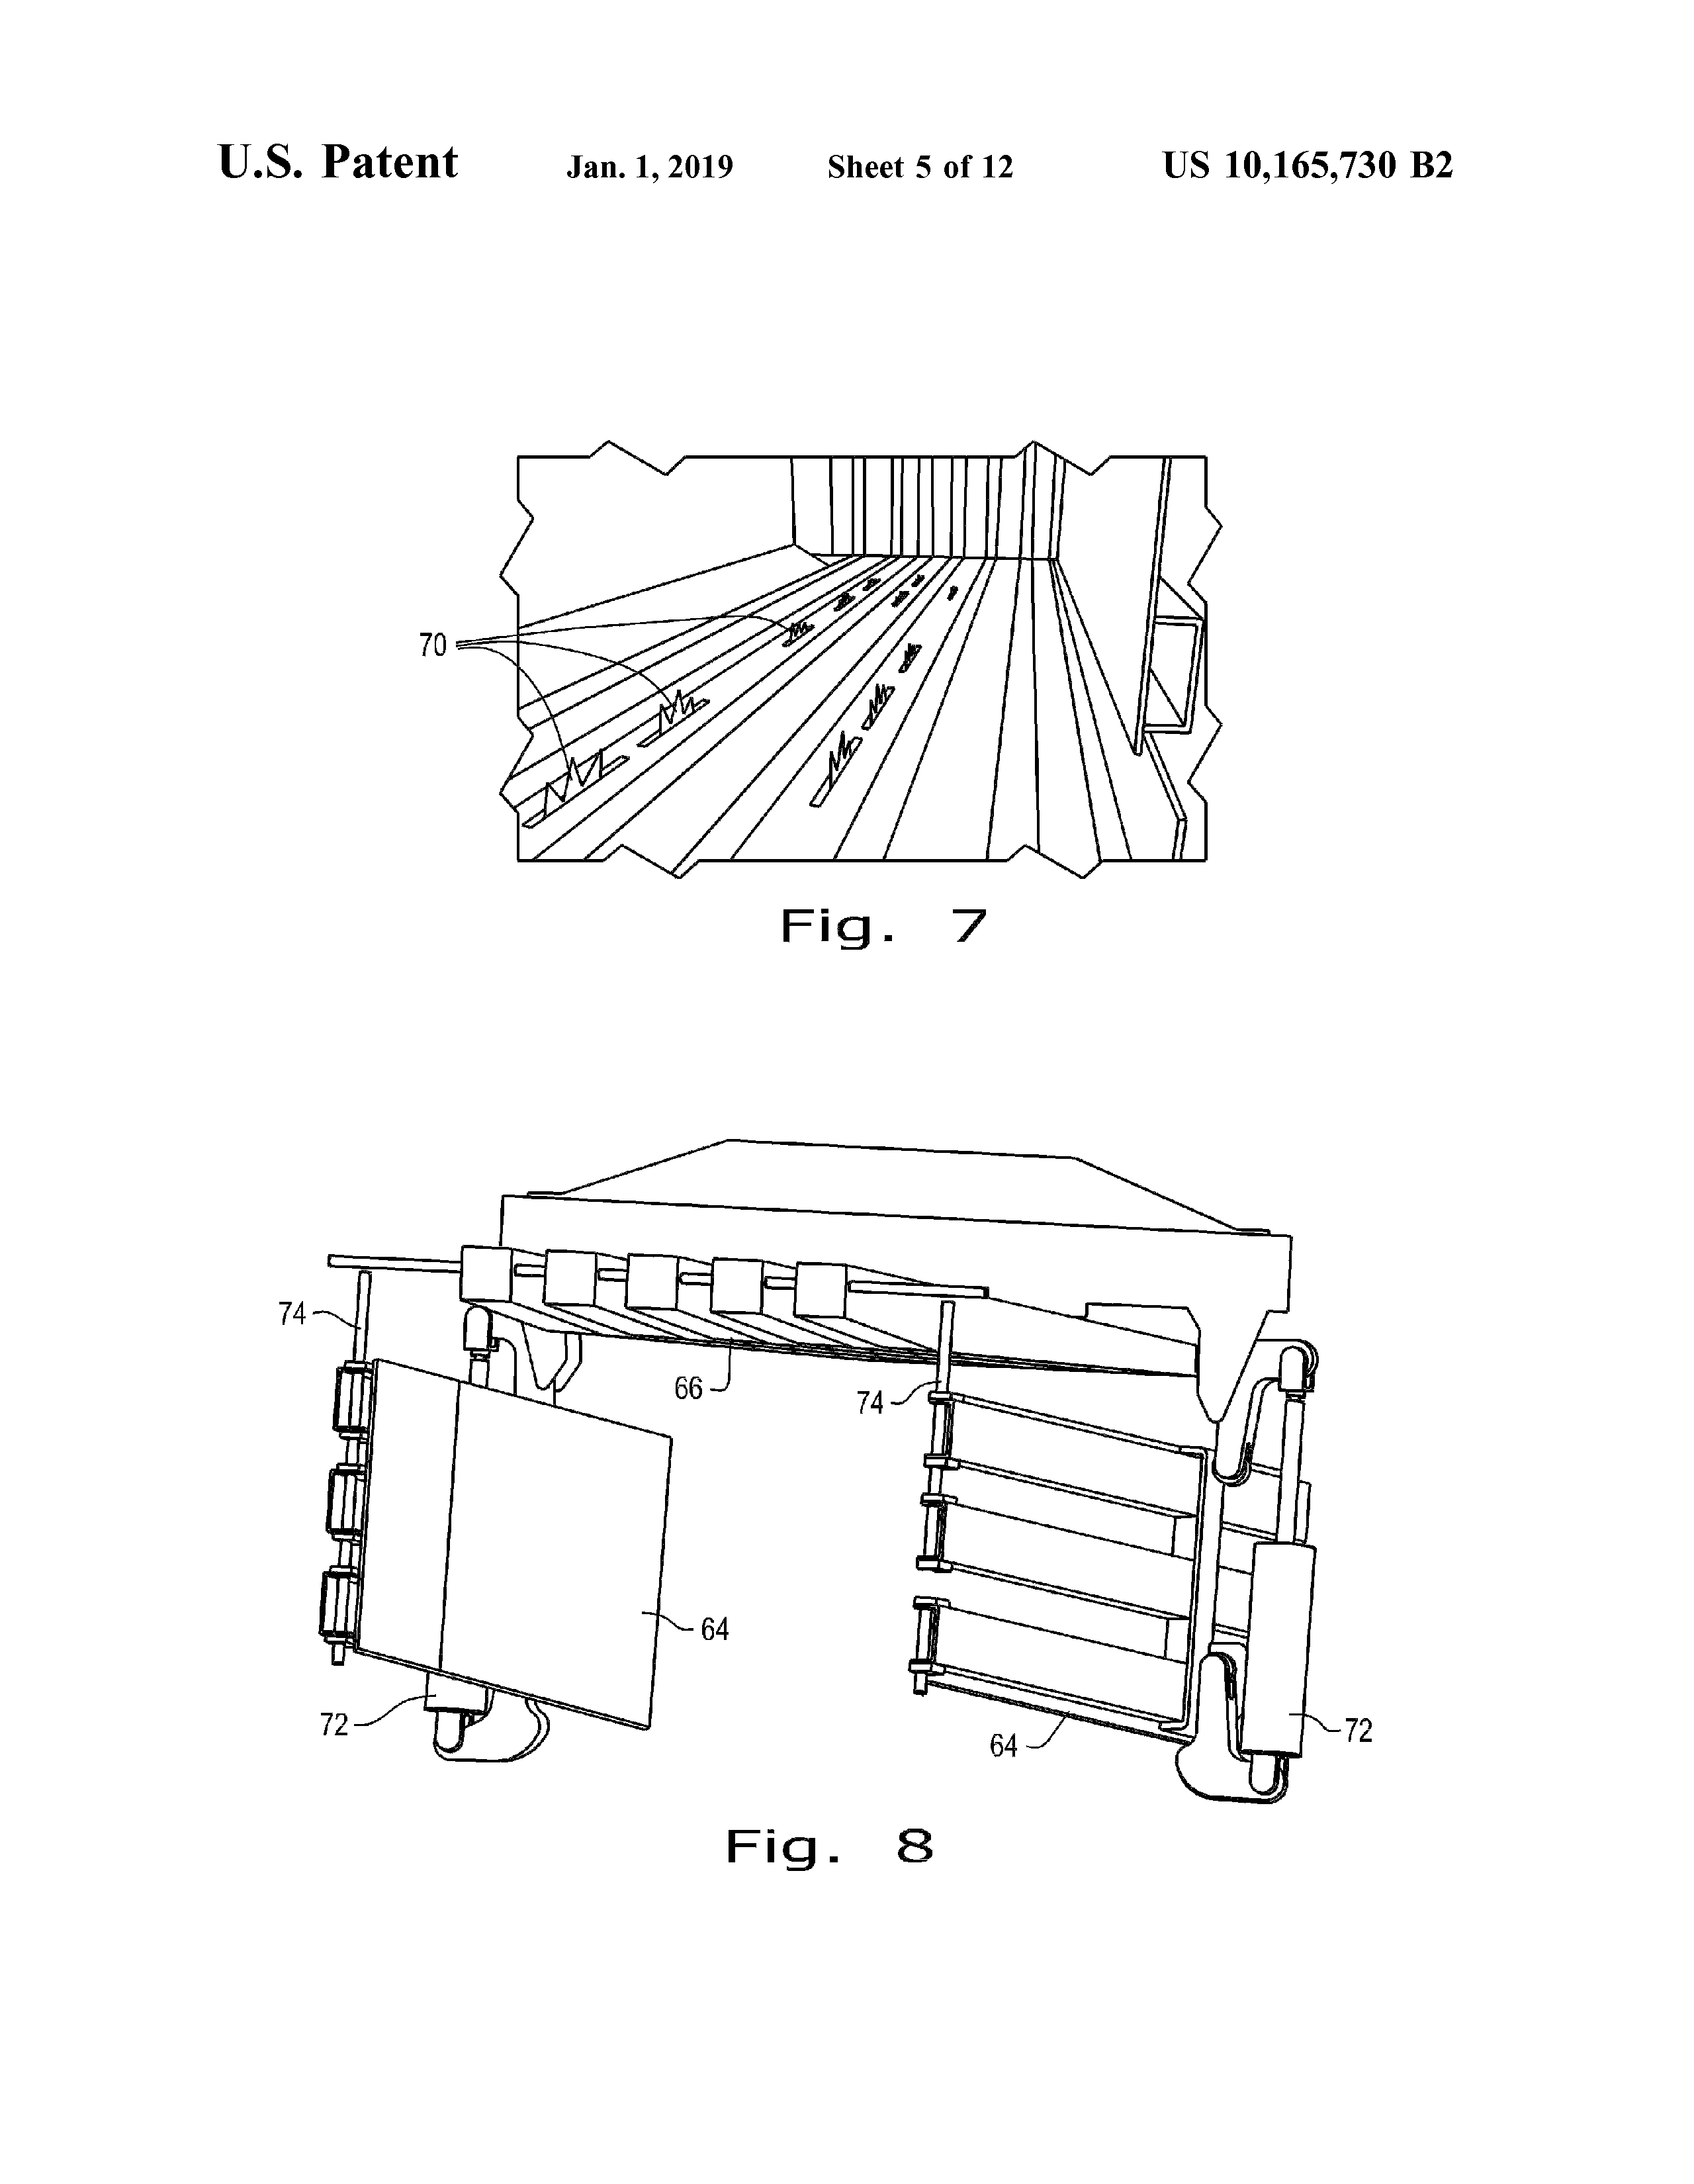patent image: (258, 1099, 1432, 1902), (368, 412, 1306, 1004)
